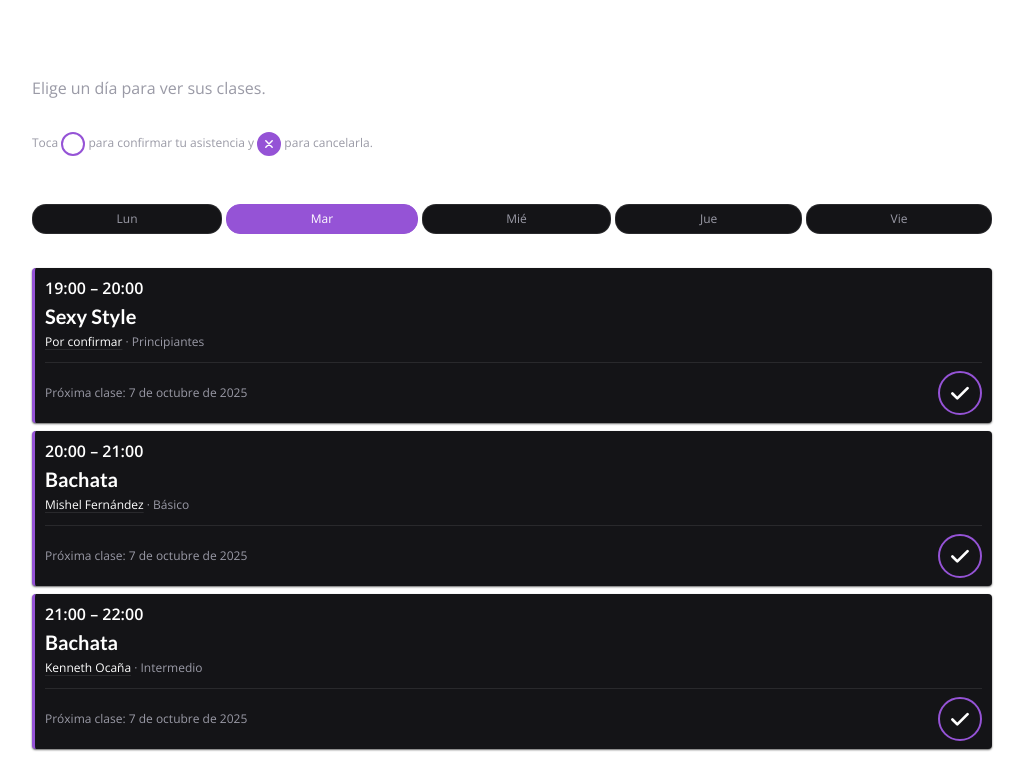
Schedules on a narrow screen › for a signed-in member › tells a member whose membership starts later the day it starts, in the same prompt
Click the 1st button named "Confirmar asistencia" at (960, 393), box [938,371,982,415]
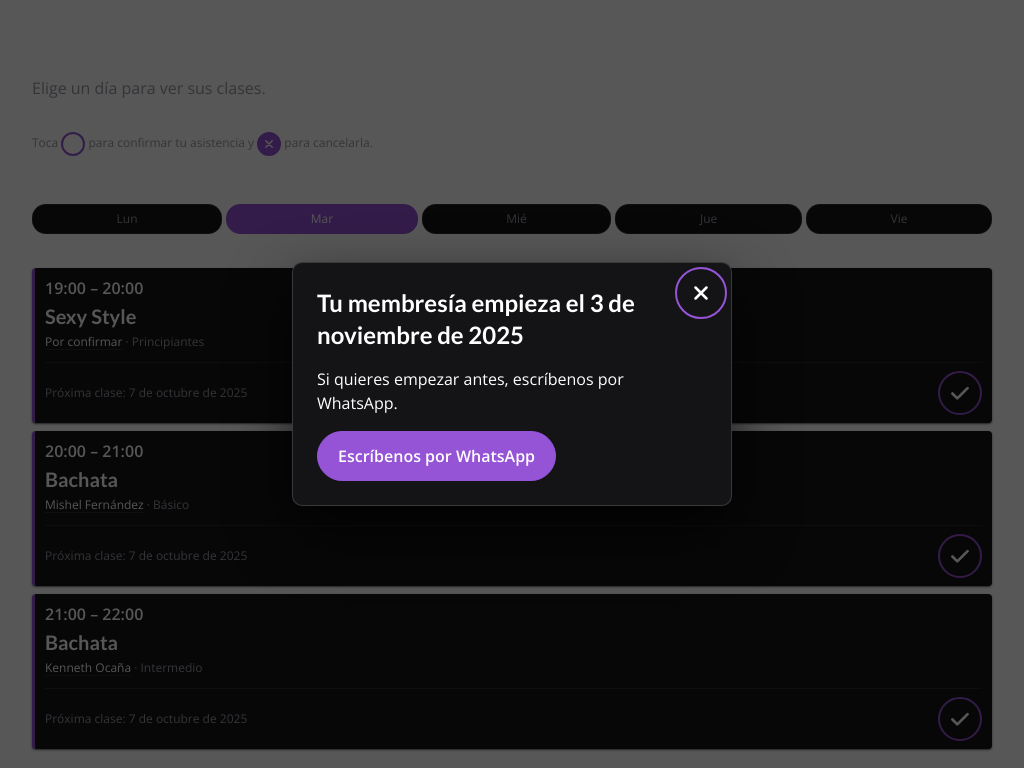
Expected: the text "Si quieres empezar antes, escríbenos por WhatsApp." is shown, [317,368,624,414]
